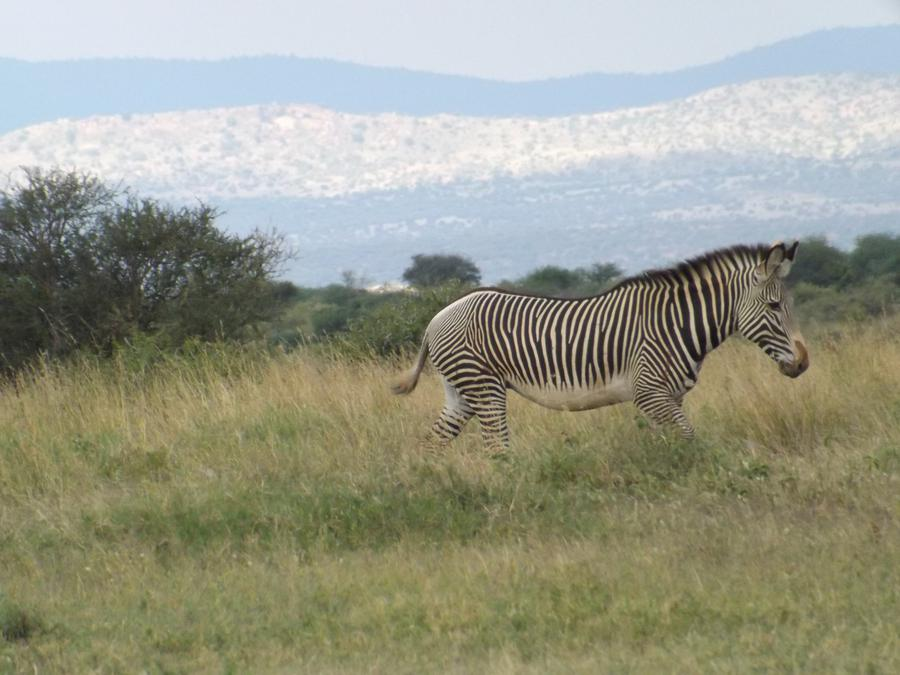zebra_grevys: (417, 268, 685, 398)
